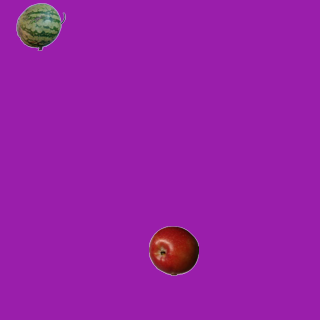Apple Braeburn: (148, 225, 198, 275)
Watermelon: (15, 1, 65, 51)
